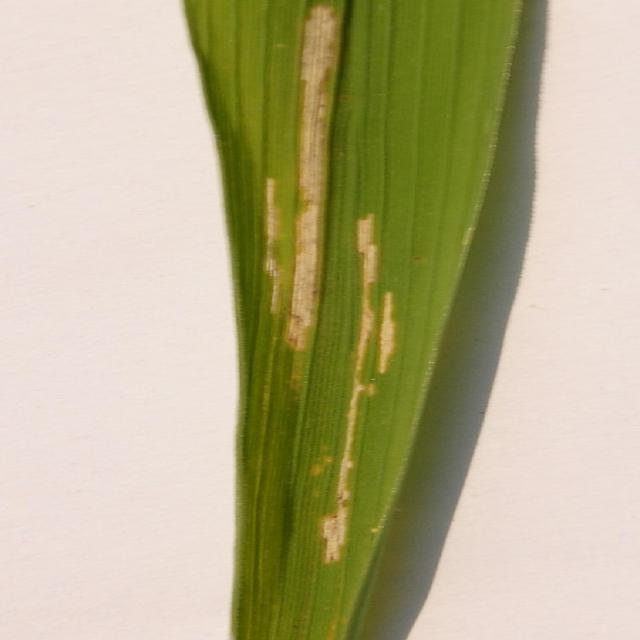leaf blight: (255, 1, 405, 563)
